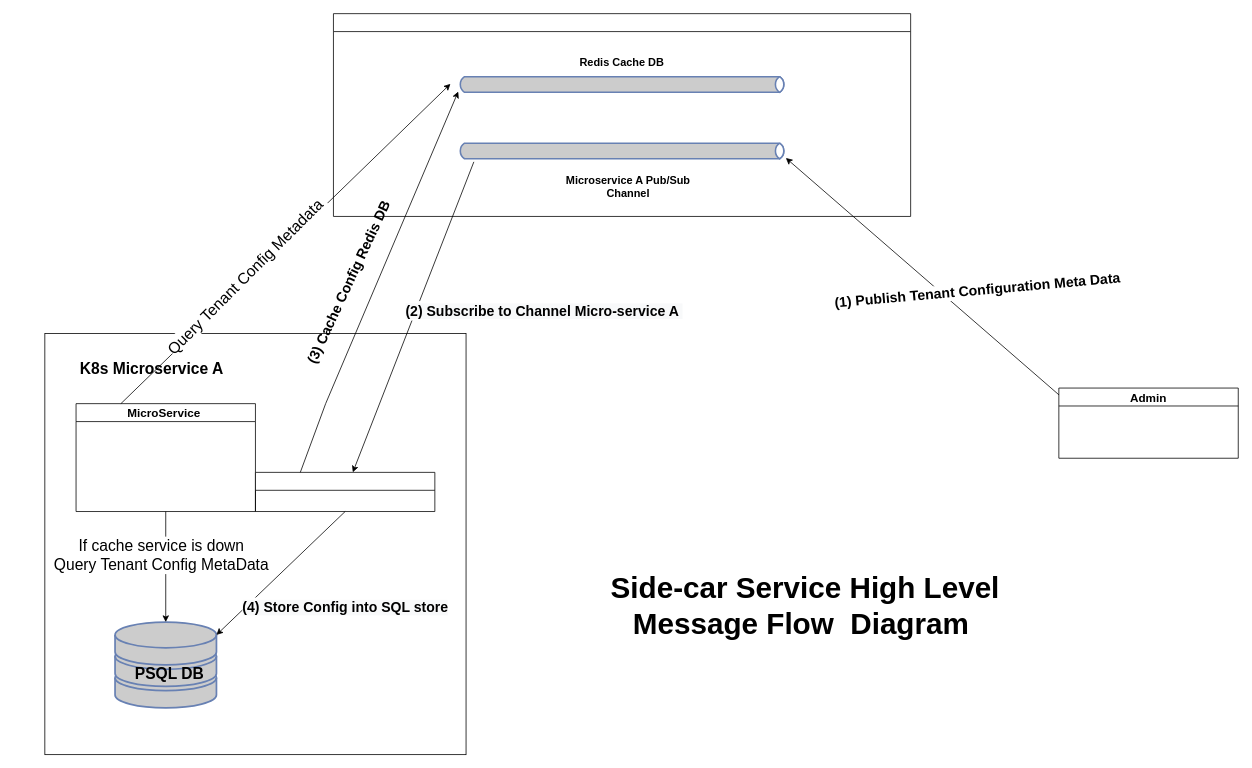
This 1252x768 diagram has some shape labels left out. The shapes that lost their labels are listed below. From the top down, each one's box as (x1, y1, x2, y2) in pixels, then its label:
(333, 13, 911, 216): Redis Cache Server
(255, 472, 435, 512): Config_sidecar
